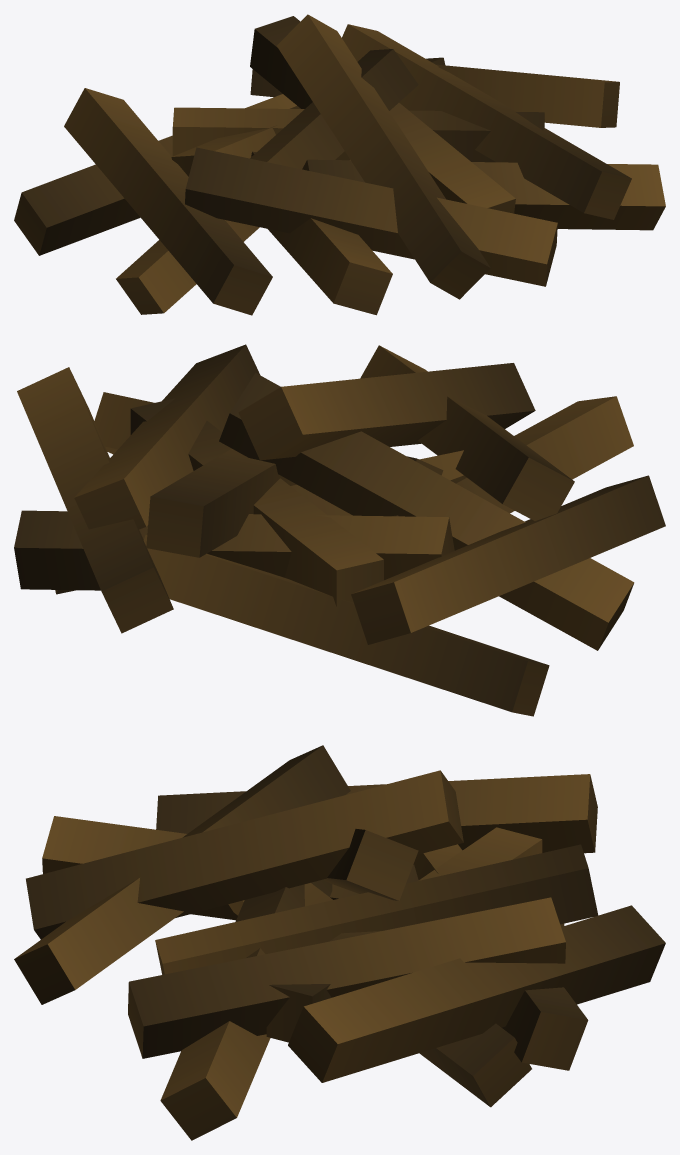
Rendered from DoubleCooked_FriesBurned.fbx.
3 views of the same model, one above another, from view 1: azimuth 30°, elevation 25°; view 2: azimuth 150°, elevation 25°; view 3: azimuth 270°, elevation 25° (orthographic). The views are drawn at different scales.
Parts seen in each view (by area): view 1: DoubleCooked_FriesBurned; view 2: DoubleCooked_FriesBurned; view 3: DoubleCooked_FriesBurned.
Part boxes in pixels (left/top/right/bottom): DoubleCooked_FriesBurned: left=14, top=14, right=665, bottom=315; DoubleCooked_FriesBurned: left=14, top=344, right=665, bottom=716; DoubleCooked_FriesBurned: left=14, top=745, right=665, bottom=1140.
Bounding box in the file's own units: 21.66 × 8.39 × 20.07.
Materials: 1 (1 with a texture image).
